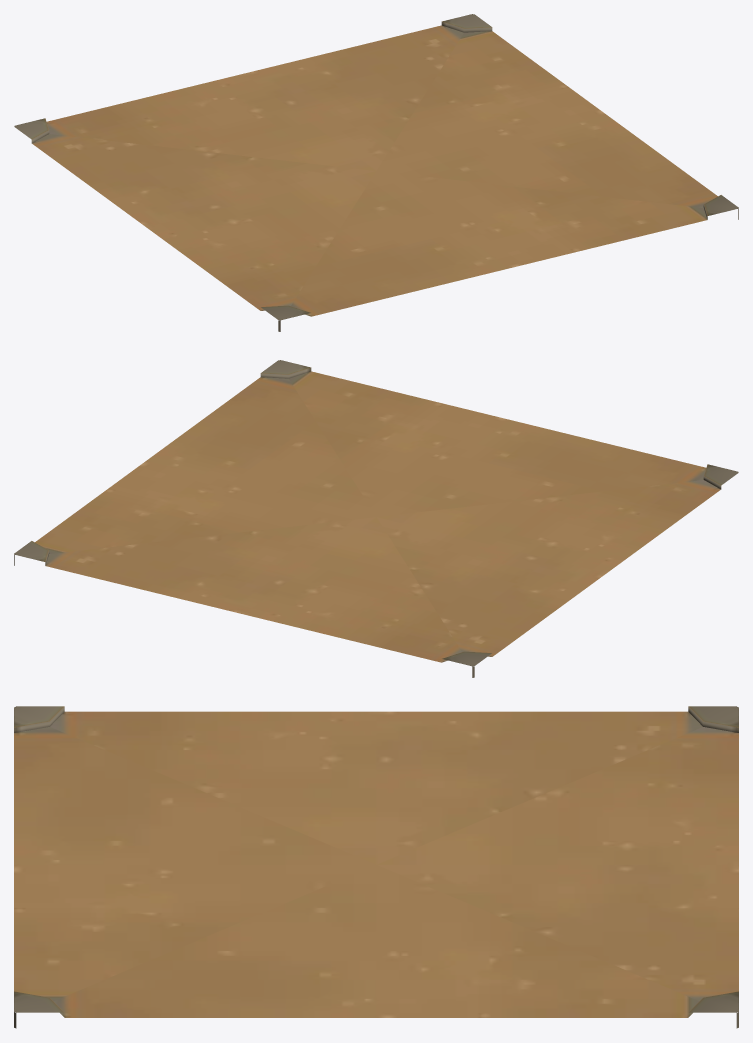
File: tile.cross.glb
3 views of the same model, one above another, from view 1: azimuth 30°, elevation 25°; view 2: azimuth 150°, elevation 25°; view 3: azimuth 270°, elevation 25° (orthographic). The views are drawn at different scales.
Parts seen in each view (by area): view 1: path.tile.cross; view 2: path.tile.cross; view 3: path.tile.cross.
Boxes of the visible parts, left/top/right/bottom form: path.tile.cross: left=14, top=14, right=738, bottom=331; path.tile.cross: left=14, top=360, right=738, bottom=677; path.tile.cross: left=14, top=706, right=738, bottom=1028.
Bounding box in the file's own units: 1 × 0.024 × 1.
1 material, 1 textured.
